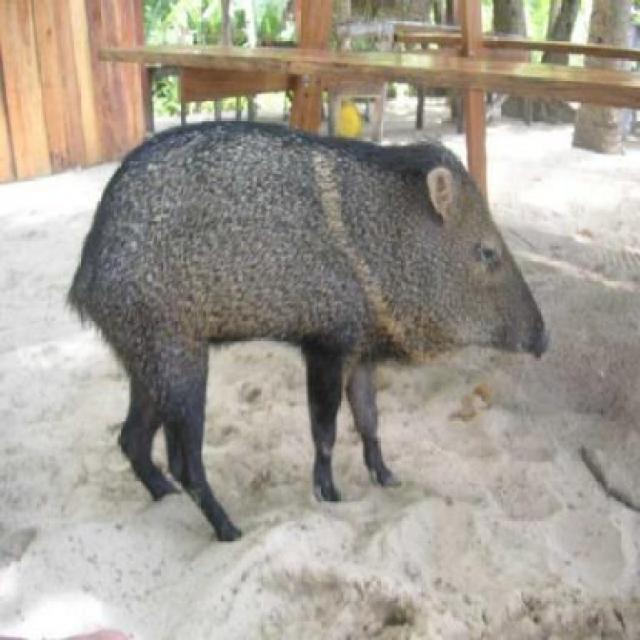pig: (29, 85, 557, 587)
